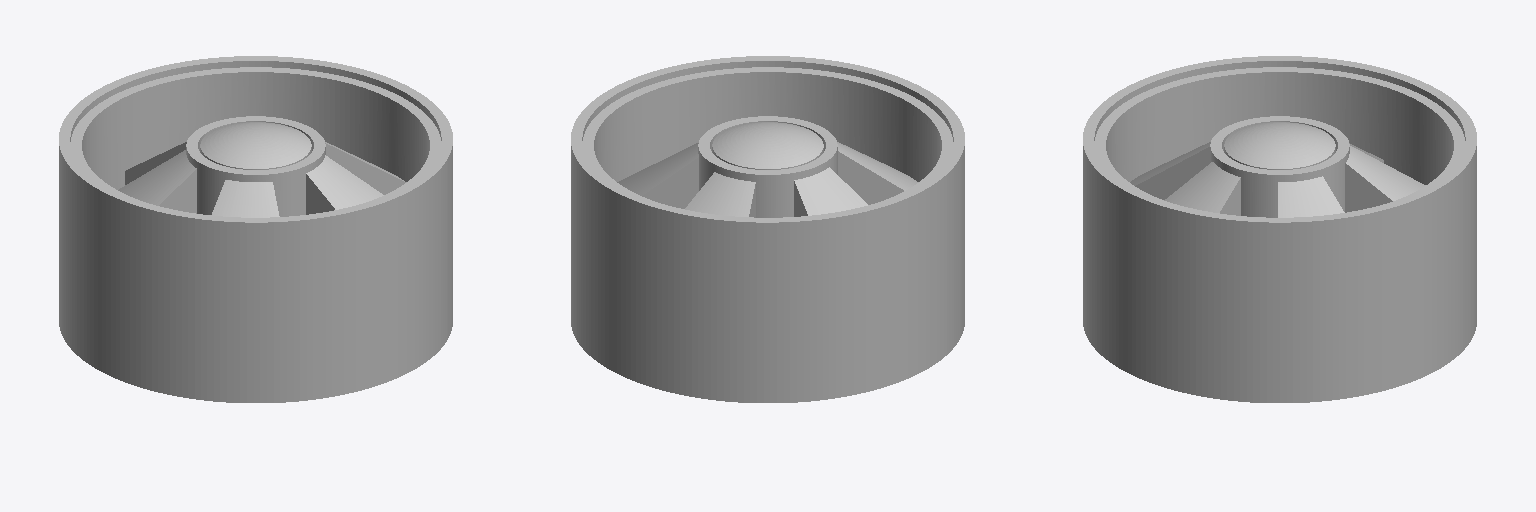
3 views of the same model, side by side, from view 1: azimuth 30°, elevation 25°; view 2: azimuth 150°, elevation 25°; view 3: azimuth 270°, elevation 25° (orthographic).
Parts seen in each view (by area): view 1: Вырез-Вытянуть2; view 2: Вырез-Вытянуть2; view 3: Вырез-Вытянуть2.
Part boxes in pixels (bbox=[...]): Вырез-Вытянуть2: bbox=[59, 56, 452, 402]; Вырез-Вытянуть2: bbox=[571, 56, 964, 402]; Вырез-Вытянуть2: bbox=[1083, 56, 1476, 402].
Bounding box in the file's own units: 0.1725 × 0.1167 × 0.1725.